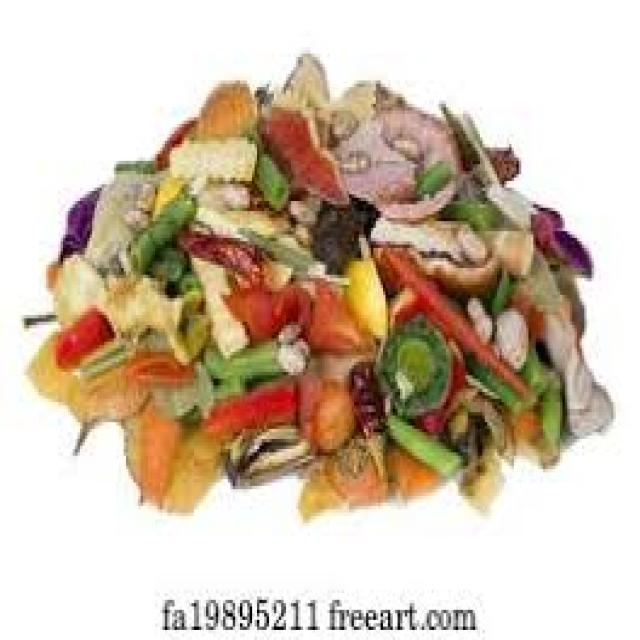biodegradable: (371, 238, 521, 399), (323, 77, 459, 218), (24, 328, 141, 459), (264, 47, 344, 194), (124, 402, 226, 506), (105, 268, 214, 362), (260, 91, 345, 205), (373, 305, 451, 415), (517, 248, 580, 375), (296, 345, 378, 439), (199, 376, 296, 453), (116, 184, 199, 268), (17, 251, 107, 325), (85, 168, 153, 265), (301, 268, 373, 352), (223, 415, 308, 486), (184, 252, 245, 349), (373, 211, 485, 261), (446, 382, 512, 459), (383, 412, 461, 473), (560, 352, 611, 442), (177, 225, 262, 278), (442, 101, 500, 178), (417, 335, 463, 432), (531, 201, 589, 271), (150, 355, 216, 416), (322, 439, 388, 499), (337, 251, 383, 335), (56, 305, 112, 372), (165, 134, 250, 178), (221, 281, 279, 342), (310, 376, 354, 453), (247, 221, 318, 268), (386, 439, 446, 493), (502, 405, 555, 466), (475, 224, 538, 275), (459, 426, 500, 503), (199, 81, 252, 138), (352, 365, 381, 469), (59, 181, 100, 251), (296, 462, 347, 513), (269, 278, 310, 339), (192, 205, 284, 232), (439, 191, 502, 228), (492, 305, 526, 369), (134, 348, 197, 382), (480, 181, 533, 221), (548, 268, 582, 328), (153, 117, 192, 168), (231, 251, 289, 285), (257, 141, 286, 208), (143, 242, 189, 282), (536, 379, 562, 446), (180, 178, 248, 201), (146, 178, 185, 215), (488, 261, 512, 315), (466, 295, 492, 338), (325, 108, 354, 138), (485, 144, 514, 174), (277, 342, 306, 372), (334, 151, 371, 174), (112, 158, 158, 175), (393, 134, 419, 161), (274, 322, 298, 349), (286, 221, 310, 245), (46, 258, 63, 281)
